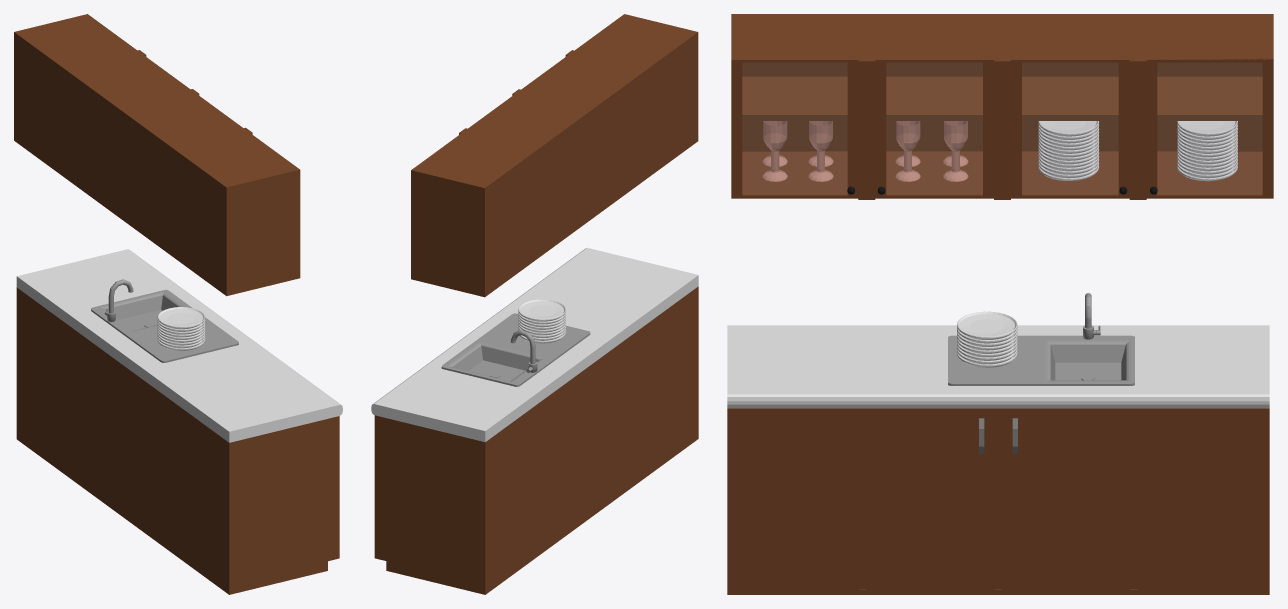
The model's file is Kitchen counter 1.fbx.
3 views of the same model, side by side, from view 1: azimuth 30°, elevation 25°; view 2: azimuth 150°, elevation 25°; view 3: azimuth 270°, elevation 25° (orthographic). The views are drawn at different scales.
Parts seen in each view (by area): view 1: actual counter.002, counter, Cube.003, Circle.001, Window; view 2: actual counter.002, counter, Cube.003, Circle.001; view 3: actual counter.002, counter, Window, Cube.003, Circle.002, Circle.003, Circle.001, Plane.003, Plane.001, Plane, Plane.002.
Boxes of the visible parts, x1,y1,x2,y2 form: actual counter.002: (16, 249, 342, 594); counter: (14, 14, 300, 296); Cube.003: (91, 279, 238, 362); Circle.001: (157, 307, 205, 350); Window: (86, 14, 300, 278); actual counter.002: (371, 248, 698, 594); counter: (411, 14, 698, 297); Cube.003: (441, 313, 590, 386); Circle.001: (518, 299, 565, 343); actual counter.002: (727, 325, 1269, 594); counter: (731, 14, 1273, 198); Window: (731, 58, 1273, 199); Cube.003: (948, 293, 1134, 385); Circle.002: (1038, 121, 1099, 180); Circle.003: (1177, 121, 1237, 181); Circle.001: (957, 311, 1017, 367); Plane.003: (762, 121, 787, 181); Plane.001: (943, 121, 968, 181); Plane: (895, 121, 920, 181); Plane.002: (808, 121, 833, 181).
Size of the model in its own units: 62.41 by 211 by 201.
